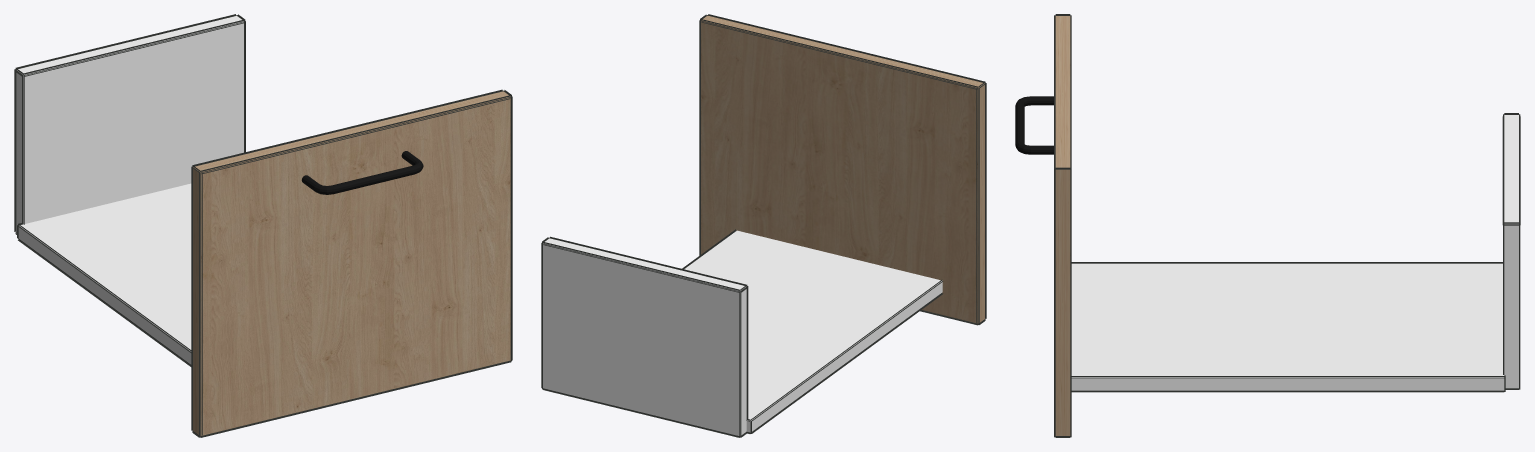
File: skuff4.glb
The picture shows the model from 3 angles, left to right: view 1: azimuth 30°, elevation 25°; view 2: azimuth 150°, elevation 25°; view 3: azimuth 270°, elevation 25°; orthographic projection. The views are drawn at different scales.
Size of the model in its own units: 401 by 326 by 554.
7 materials, 4 textured.
